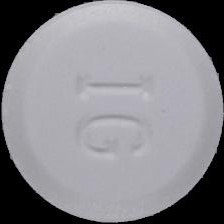60760-238: (0, 0, 224, 224)
